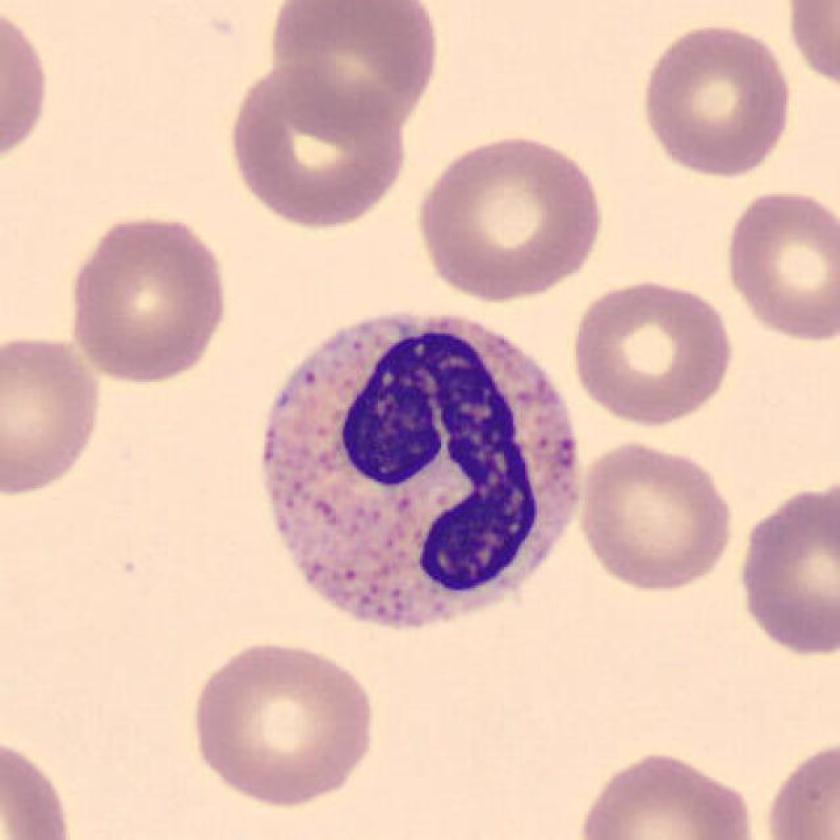neutrophil: (264, 317, 579, 630)
